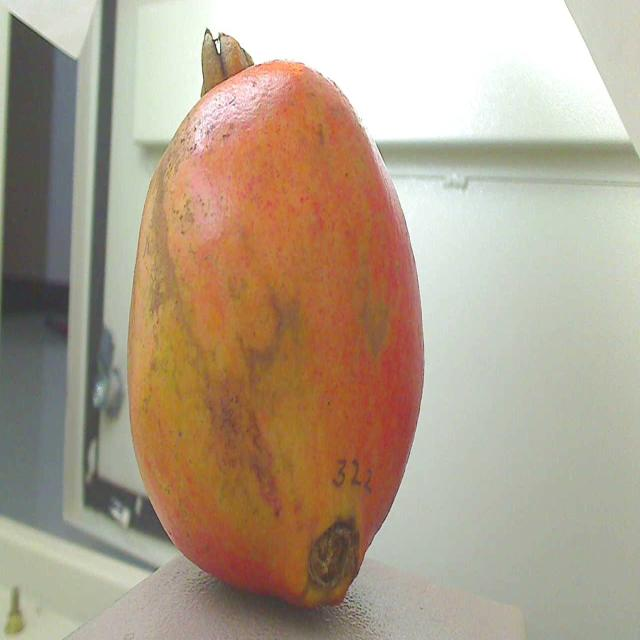pomegranate: (115, 0, 430, 640)
